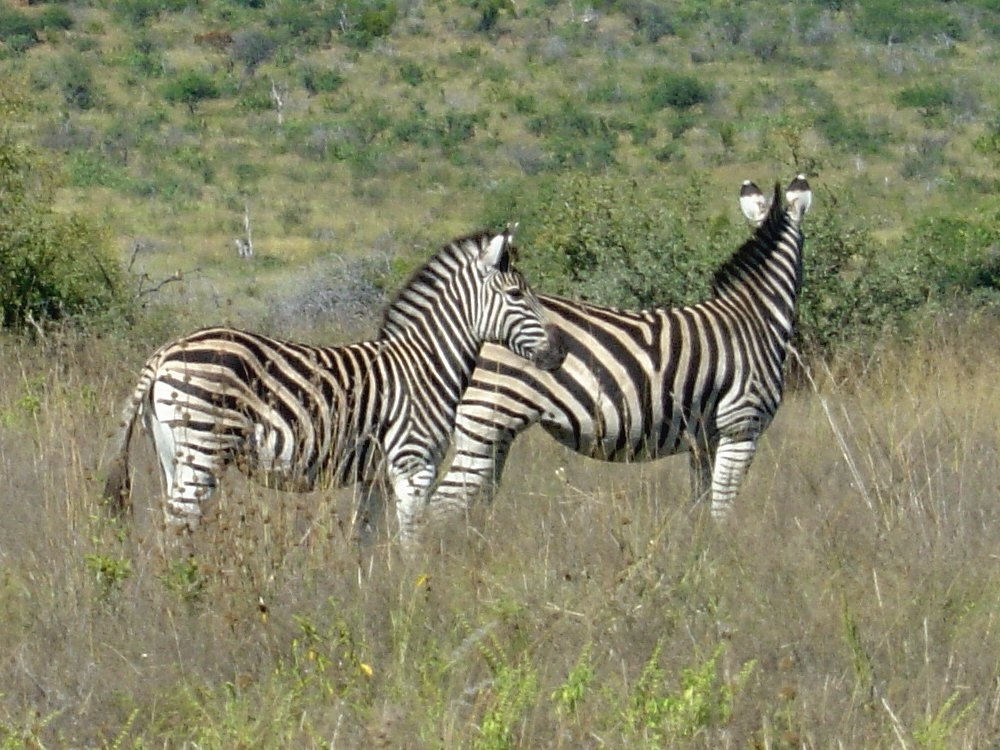zebra: (428, 175, 821, 589), (109, 229, 556, 589)
